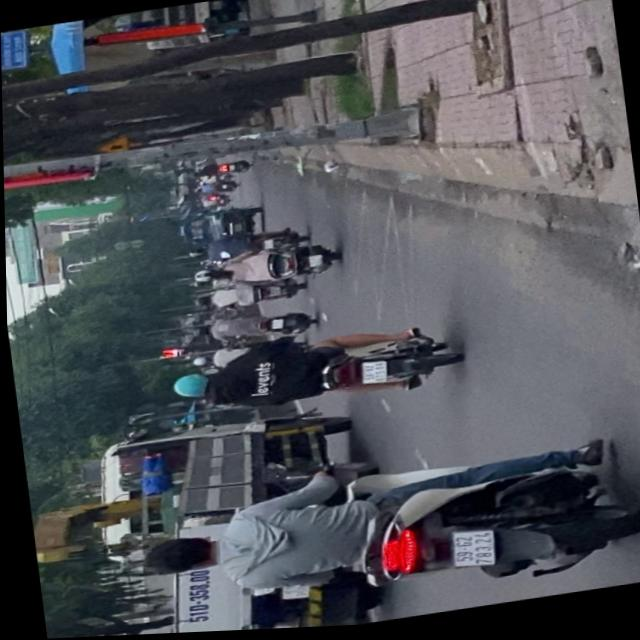helmet: (167, 373, 212, 404)
licenseplate: (124, 429, 640, 636), (162, 319, 462, 431)
motorcyclist: (135, 532, 214, 583)
nohelmet: (445, 533, 492, 574), (356, 364, 383, 388)
